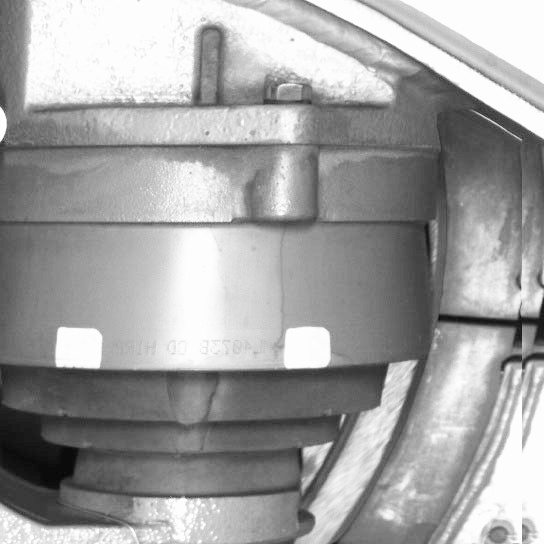ClosedKnifeSwitch: (321, 149, 520, 541)
